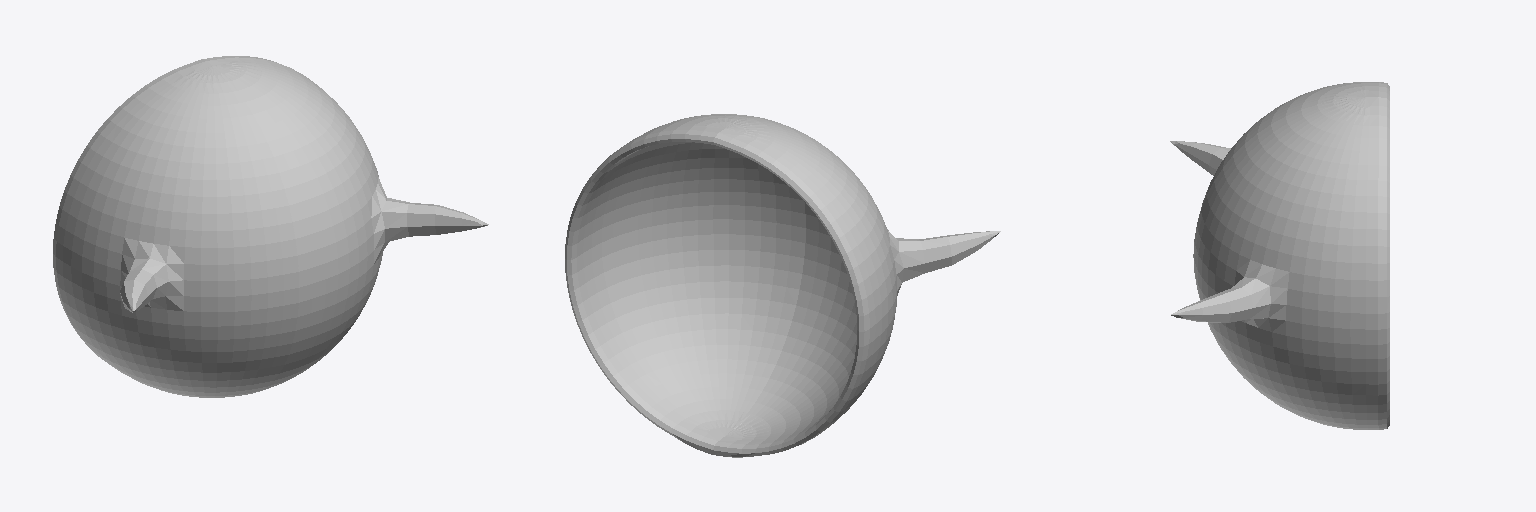
Rendered from Viking_Helmet.obj.
3 renders of one model, left to right at view 1: azimuth 30°, elevation 25°; view 2: azimuth 150°, elevation 25°; view 3: azimuth 270°, elevation 25°, orthographic.
Visible parts, largest first — view 1: Sphere001; view 2: Sphere001; view 3: Sphere001.
Part boxes in pixels (x1,y1,x2,y2): Sphere001: (53,56,488,397); Sphere001: (565,114,1000,457); Sphere001: (1170,82,1389,429).
Size of the model in its own units: 38.06 by 32.43 by 20.36.